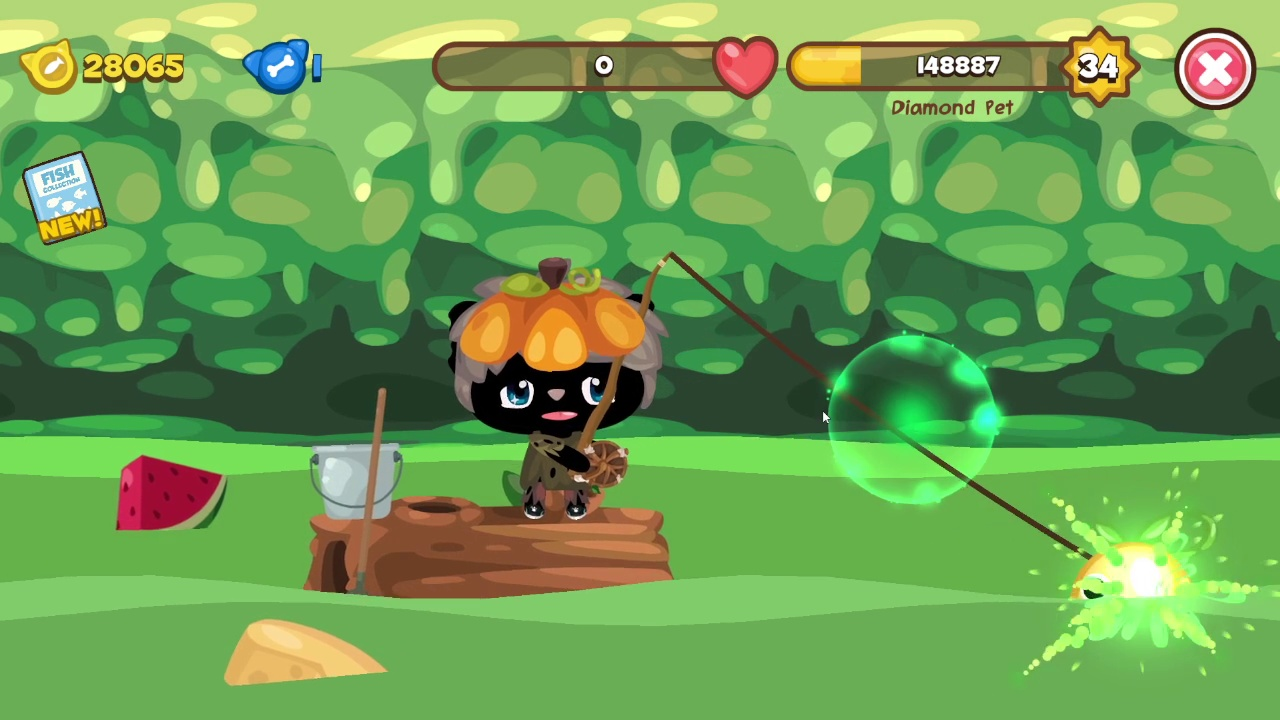point: (825, 331, 998, 507)
